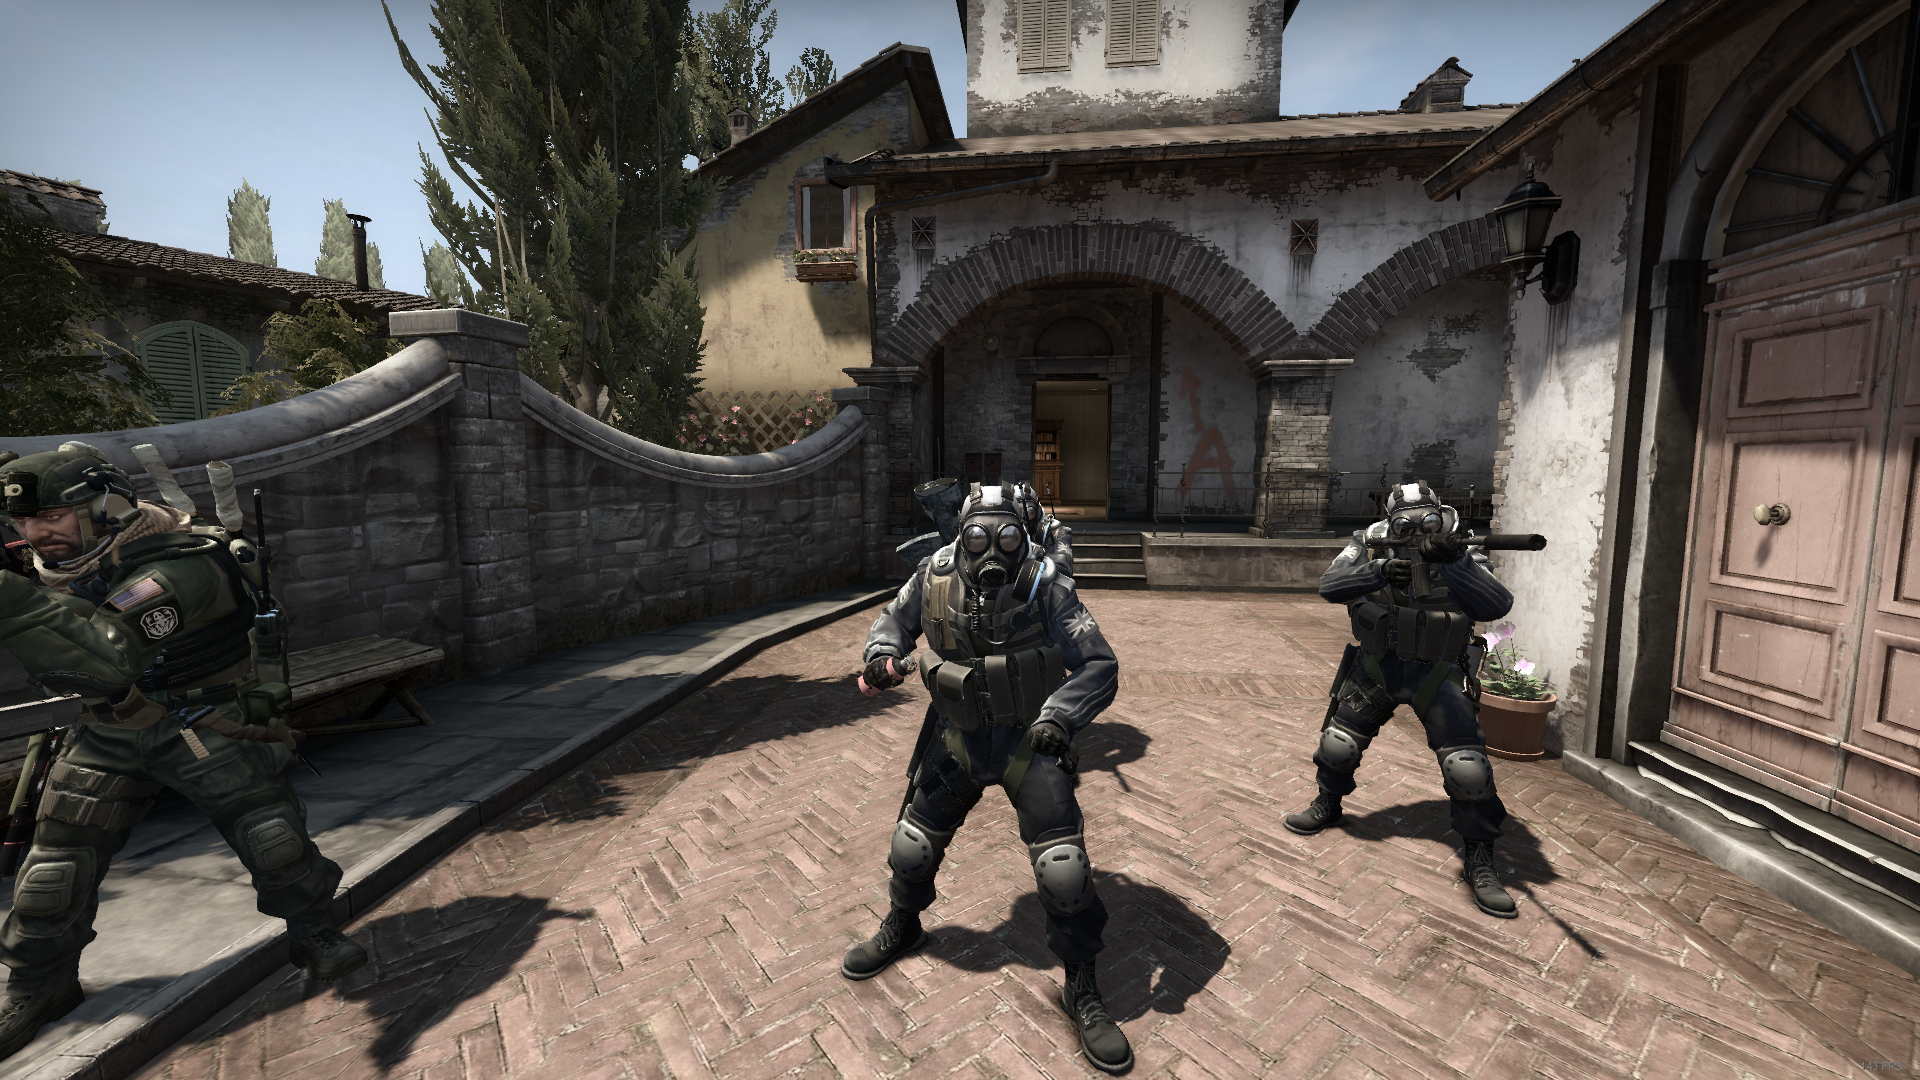ct: (847, 480, 1149, 1075), (1280, 477, 1545, 928)
